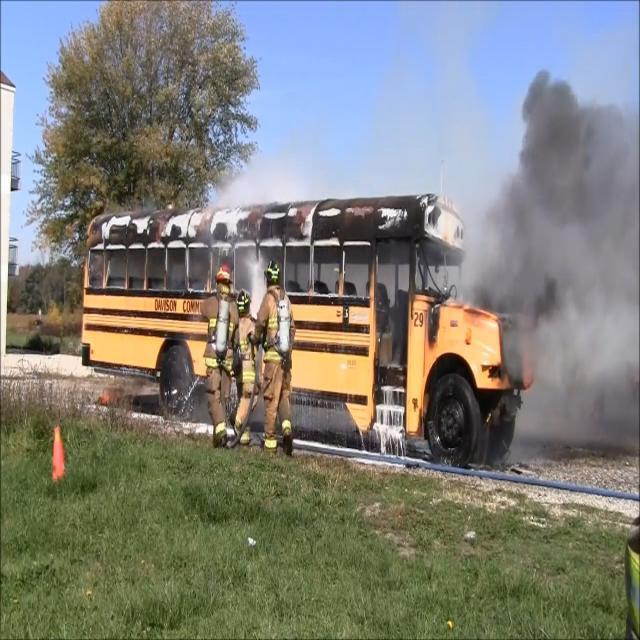Smoke: (512, 117, 640, 424)
